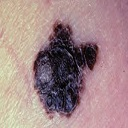Melanoma: (35, 22, 98, 117)
